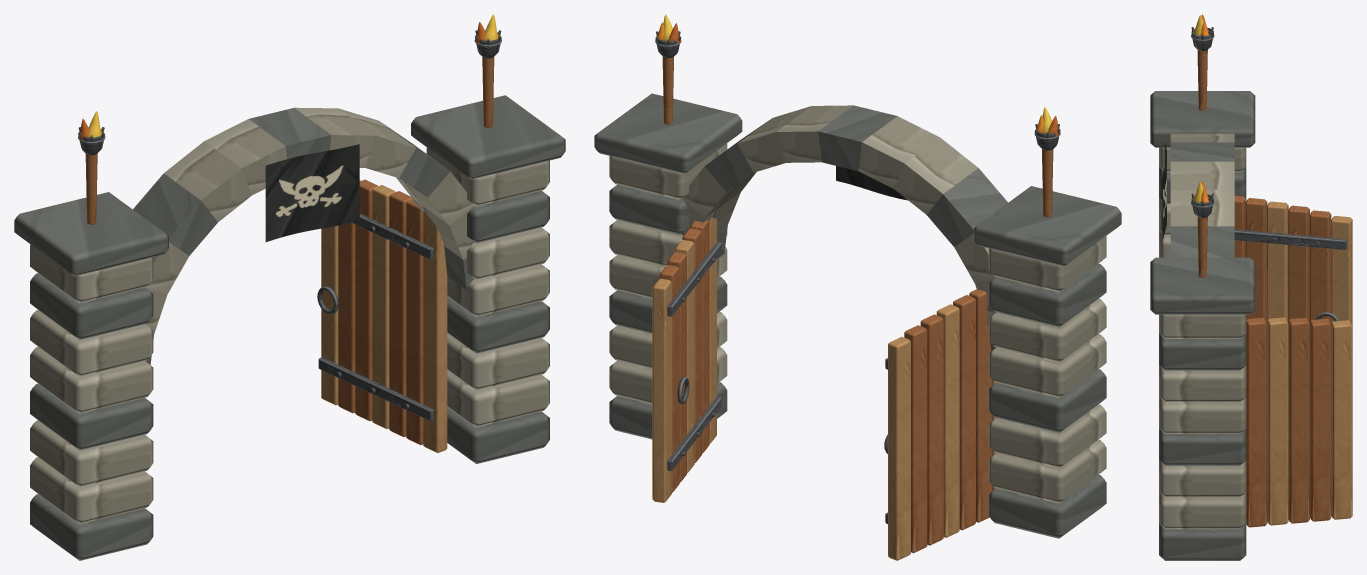
Rendered from SM_StoneGate_Open.glb.
The picture shows the model from 3 angles, left to right: view 1: azimuth 30°, elevation 25°; view 2: azimuth 150°, elevation 25°; view 3: azimuth 270°, elevation 25°; orthographic projection. The views are drawn at different scales.
Visible parts, largest first — view 1: SM_StoneGate_Open; view 2: SM_StoneGate_Open; view 3: SM_StoneGate_Open.
Part boxes in pixels (x1,y1,x2,y2): SM_StoneGate_Open: (14,14,565,560); SM_StoneGate_Open: (594,14,1121,560); SM_StoneGate_Open: (1150,14,1352,560).
Size of the model in its own units: 5.08 by 4.19 by 2.08.
Materials: 1 (1 with a texture image).
